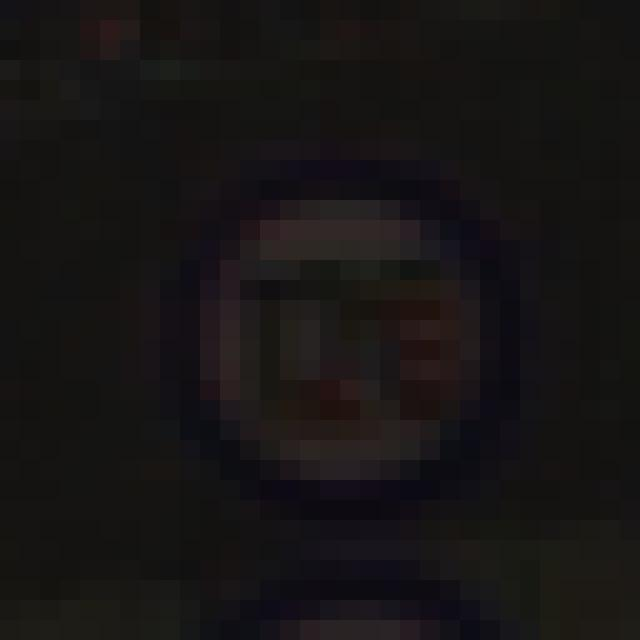SPEED LIMIT 120: (165, 173, 520, 508)
